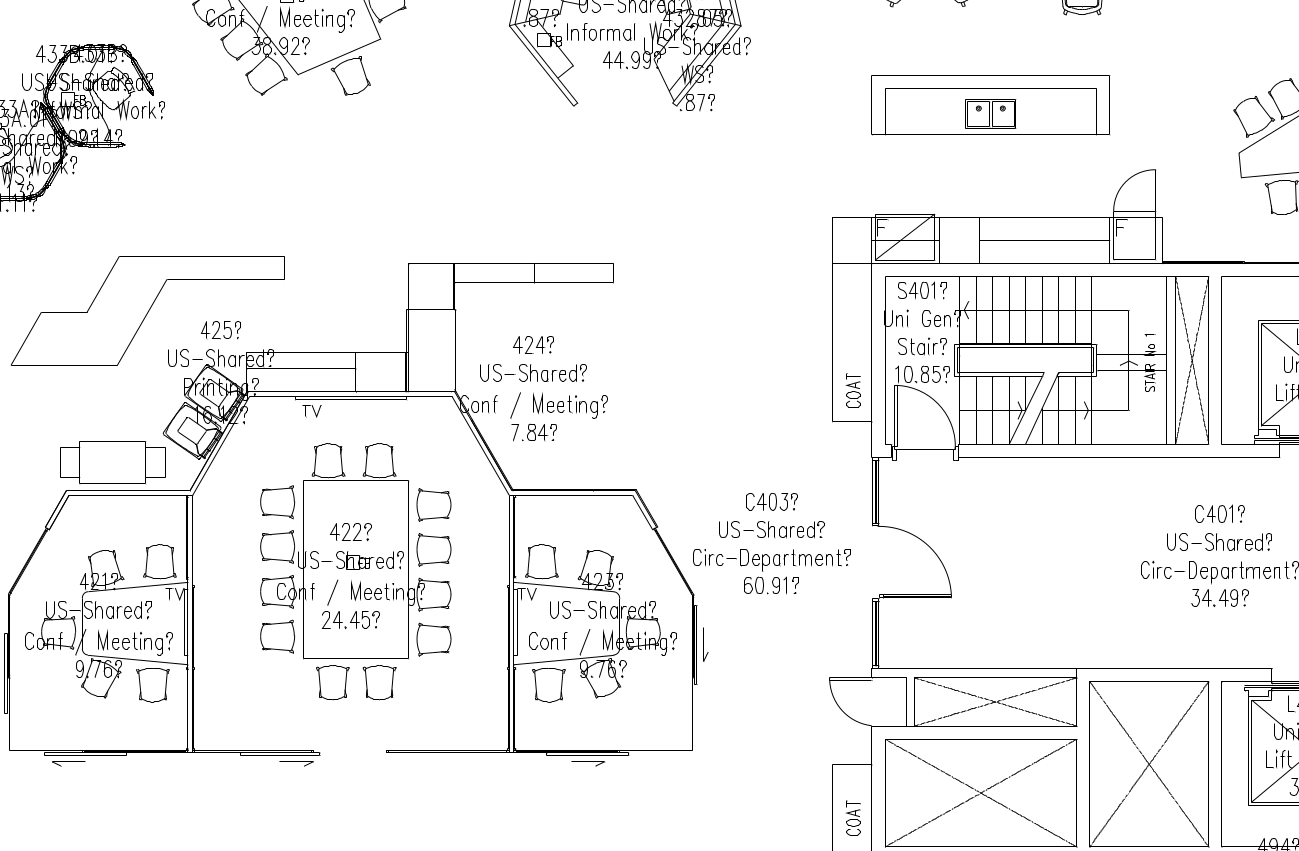door: (879, 523, 958, 604), (892, 381, 956, 455), (1104, 159, 1165, 213), (819, 671, 871, 734)
